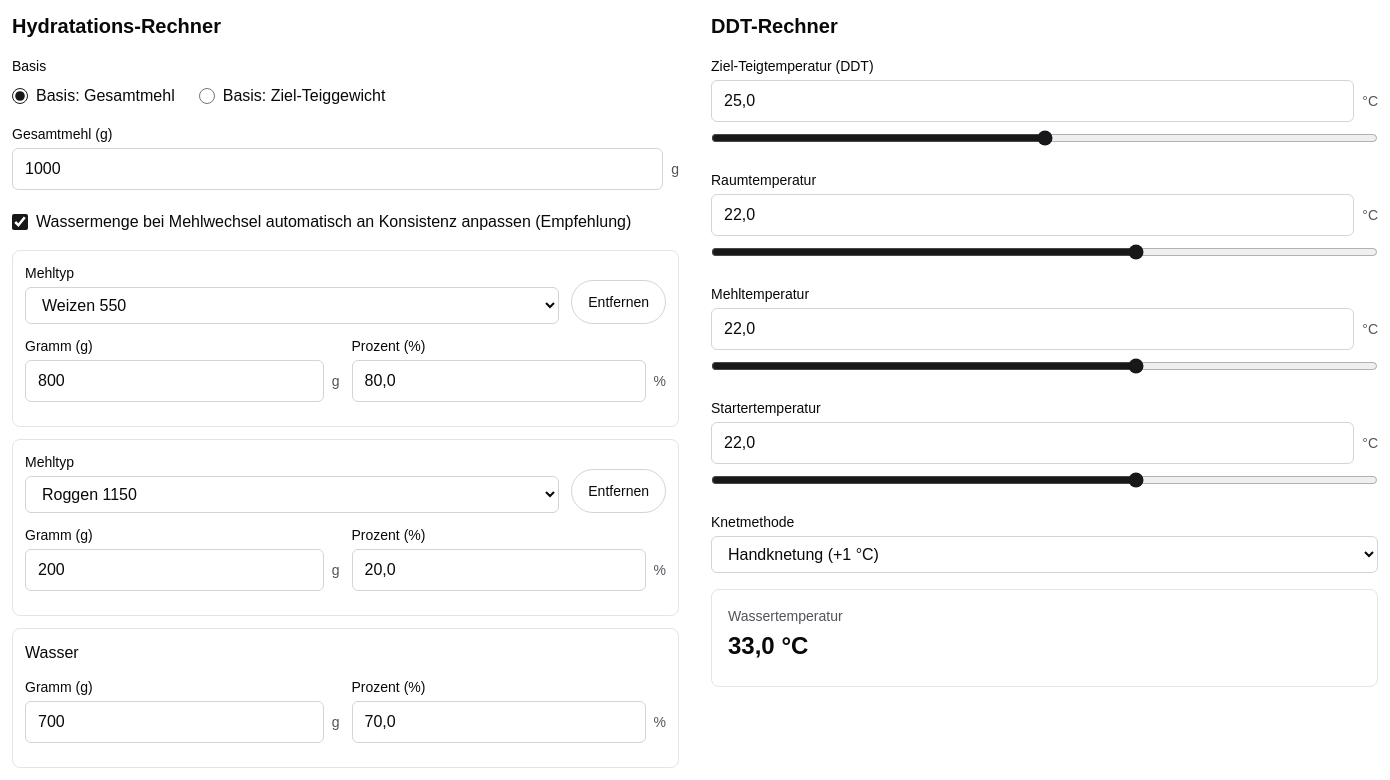
Test: F010 Zahlenfelder: unvollständige Eingaben › F010/AC-5 ein einzelnes „-“ zeigt noch keine Meldung, „-5“ dann die passende
Replace the text in the 3rd field labelled "Gramm (g)" with "-": (174, 722) left=25, top=701, right=324, bottom=743
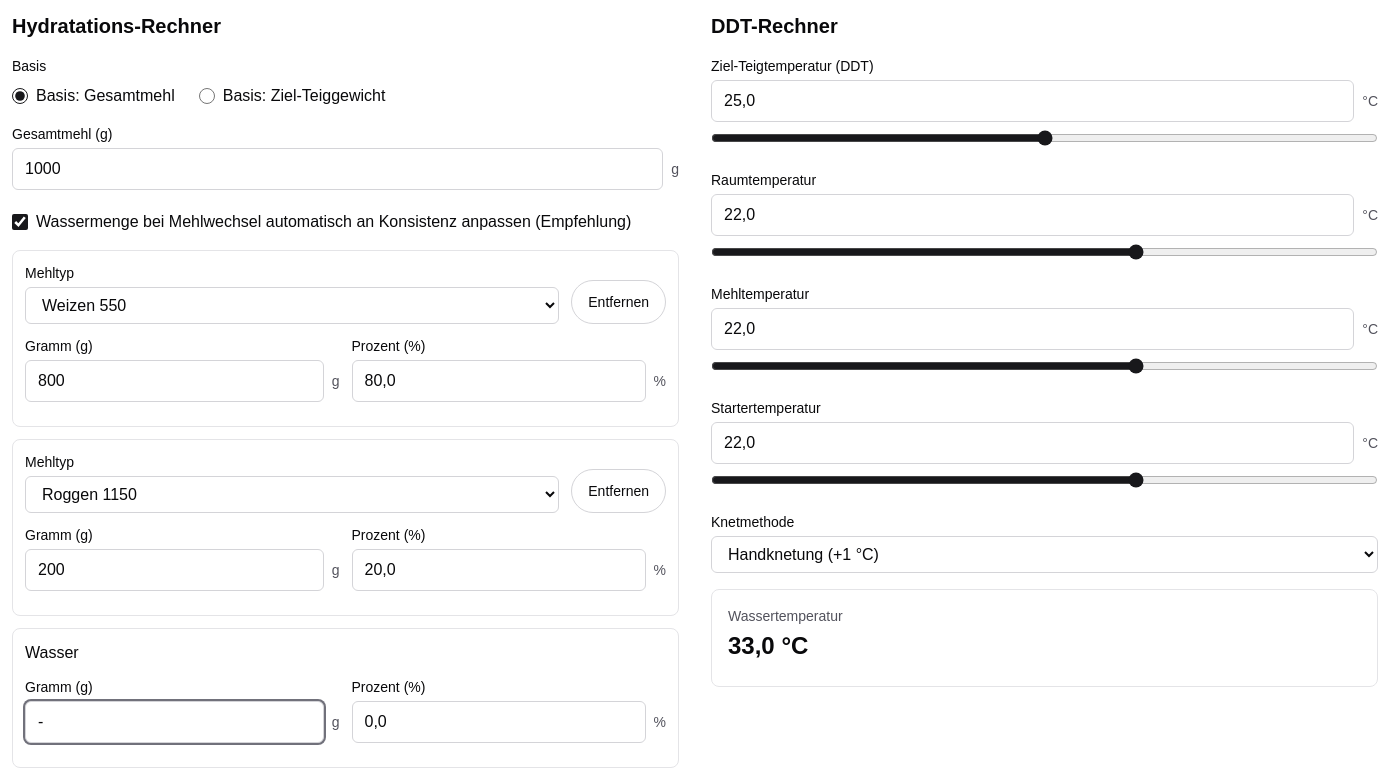
In the 3rd field labelled "Gramm (g)": (174, 722) left=25, top=701, right=324, bottom=743, type "5"
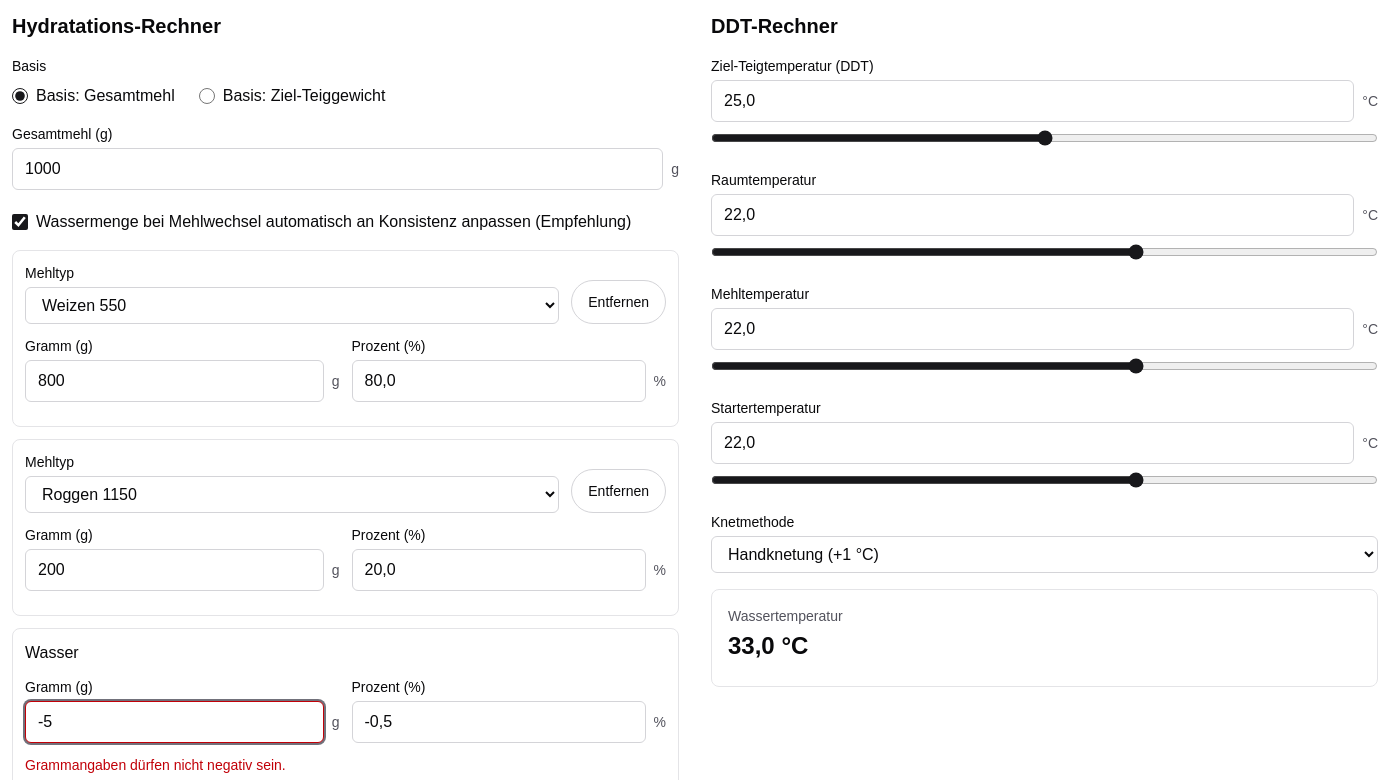
Expected: the 3rd field labelled "Gramm (g)" holds "-5", left=25, top=701, right=324, bottom=743
Expected: the text "Grammangaben dürfen nicht negativ sein." is shown, left=25, top=757, right=286, bottom=773
